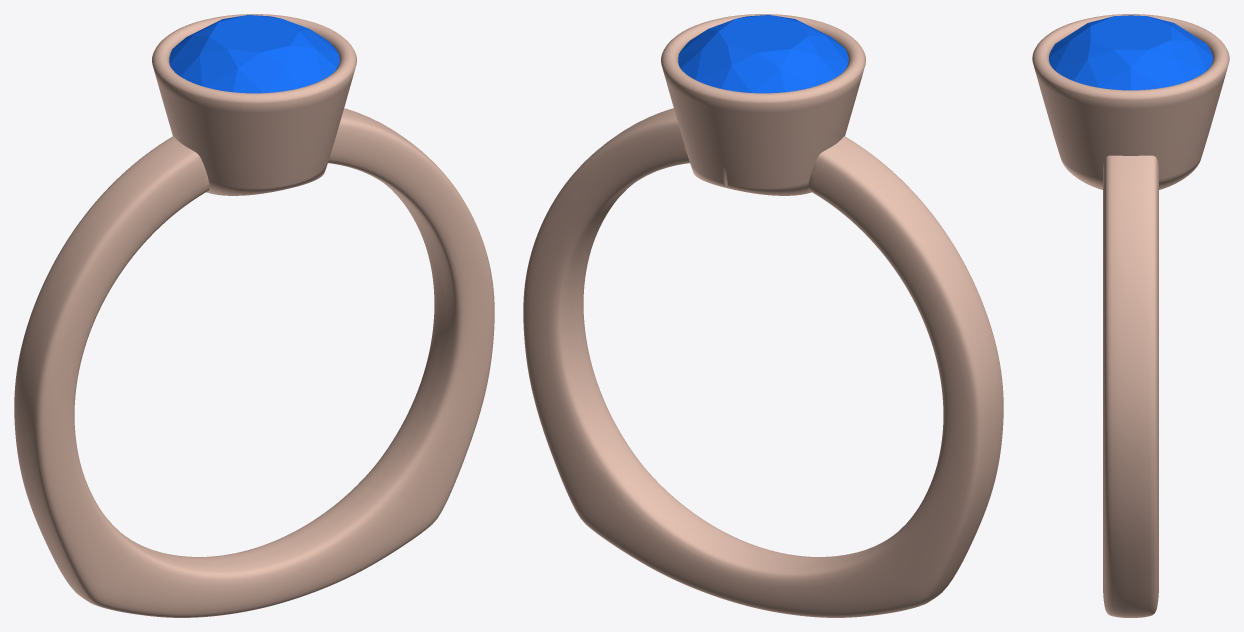
The model's file is bluesapphire-round-rosegold-bezelset-europeanshank-nosidestones.glb.
The picture shows the model from 3 angles, left to right: view 1: azimuth 30°, elevation 25°; view 2: azimuth 150°, elevation 25°; view 3: azimuth 270°, elevation 25°; orthographic projection. The views are drawn at different scales.
Parts seen in each view (by area): view 1: metal, stone; view 2: metal, stone; view 3: metal, stone.
Part boxes in pixels (x1,y1,x2,y2): metal: (14, 14, 494, 617); stone: (169, 15, 339, 93); metal: (523, 14, 1003, 617); stone: (678, 15, 848, 93); metal: (1032, 14, 1229, 617); stone: (1049, 15, 1212, 90).
Size of the model in its own units: 20.11 by 23.61 by 7.74.
